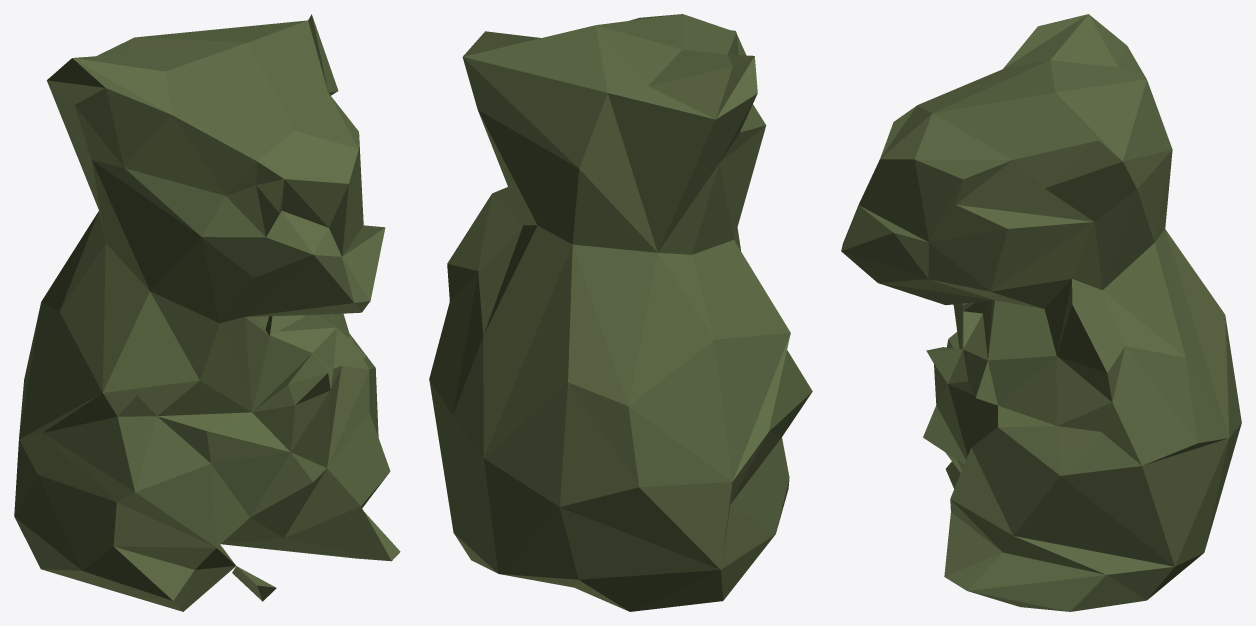
Rendered from jaguar-statue.lod2.glb.
The picture shows the model from 3 angles, left to right: view 1: azimuth 30°, elevation 25°; view 2: azimuth 150°, elevation 25°; view 3: azimuth 270°, elevation 25°; orthographic projection. The views are drawn at different scales.
Parts seen in each view (by area): view 1: Object_5; view 2: Object_5; view 3: Object_5.
Boxes of the visible parts, x1=… form: Object_5: x1=14, y1=14, x2=400, y2=611; Object_5: x1=429, y1=14, x2=812, y2=611; Object_5: x1=841, y1=14, x2=1241, y2=611.
Size of the model in its own units: 0.8357 by 1.38 by 0.9961.
